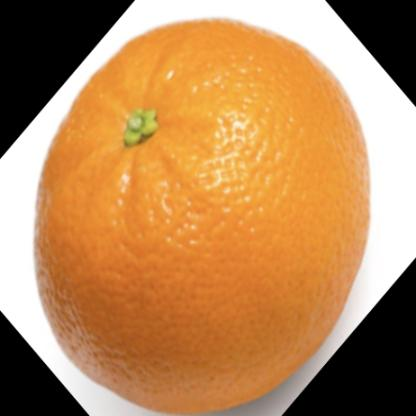fresh: (32, 17, 373, 415)
